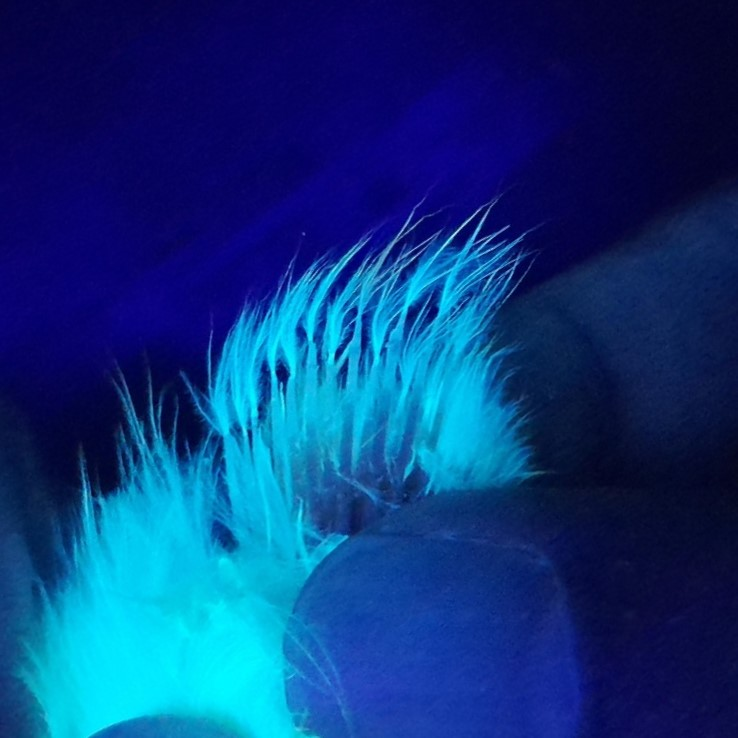male: (213, 320, 479, 555)
